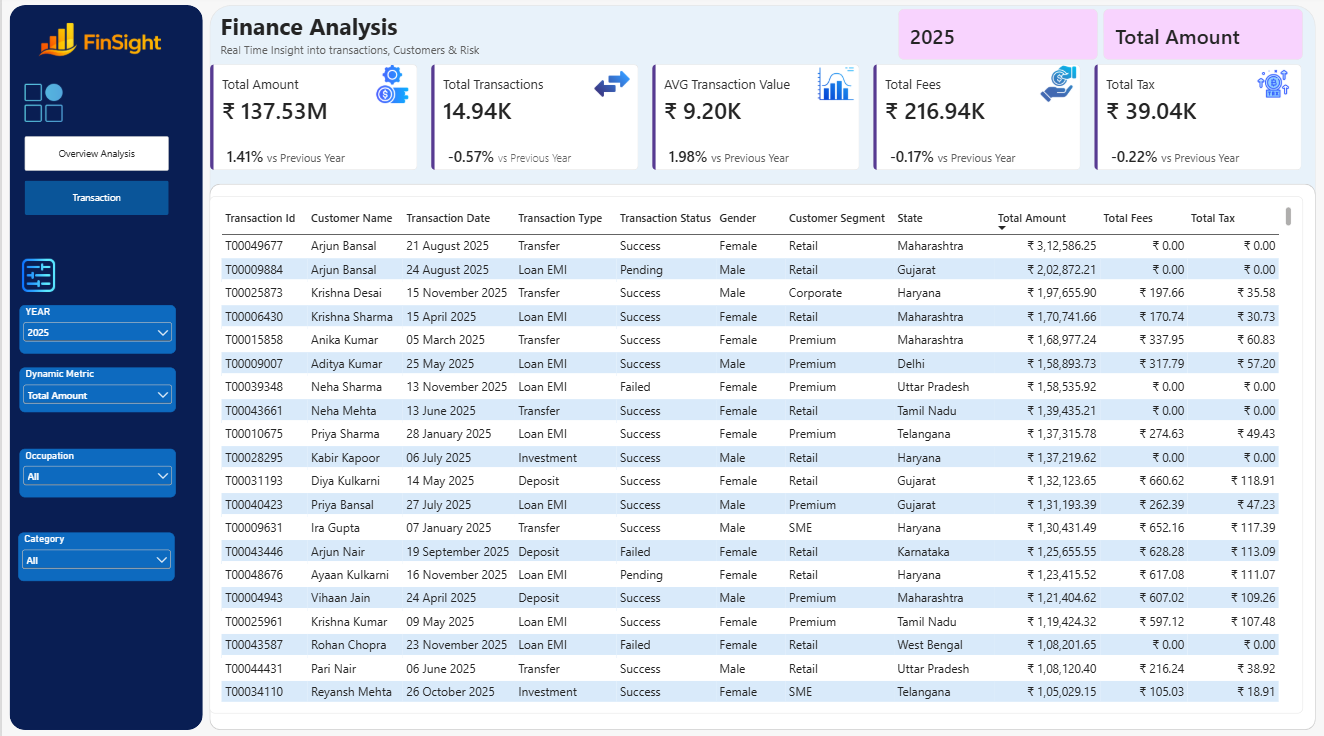

The dashboard page shown, as its layout file describes it:
{"tool":"powerbi","page":{"name":"Transaction","canvas":[1920,1080],"ordinal":1},"visuals":[{"type":"shape","box":[10.3,14.4,279.9,1049.7],"z":0},{"type":"shape","box":[300.5,14.4,1601.4,1049.7],"z":1000},{"type":"image","box":[10.9,29,266,72.4],"z":2000},{"type":"cardVisual","fields":{"Data":["finance_transactions.Dashboard Title"]},"box":[300.4,14.5,414.4,85.1],"z":3000},{"type":"cardVisual","fields":{"Data":["finance_transactions.Total Amount","finance_transactions.Total Transactions","finance_transactions.AVG Transaction Value","finance_transactions.Total Fees","finance_transactions.Total Tax"]},"box":[300.4,99.5,1583.5,155],"z":4000},{"type":"image","box":[537.5,101.3,55,55],"z":5000},{"type":"image","box":[856,101.3,54.3,54.3],"z":6000},{"type":"image","box":[1502,101.3,54.3,54.3],"z":7000},{"type":"image","box":[1179.9,101.3,54.3,54.3],"z":8000},{"type":"image","box":[1813.3,101.3,54.3,54.3],"z":9000},{"type":"shape","box":[300.4,273.3,1601.5,790.8],"z":10000},{"type":"cardVisual","fields":{"Data":["finance_transactions.Selected Year","finance_transactions.Selected Dynamic Measure"]},"box":[1297.5,19.9,586.3,74.2],"z":11000},{"type":"tableEx","fields":{"Values":["finance_transactions.transaction_id","customers.customer_name","finance_transactions.transaction_date","finance_transactions.transaction_type","finance_transactions.transaction_status","customers.gender","customers.customer_segment","customers.state","finance_transactions.Total Amount","finance_transactions.Total Fees","finance_transactions.Total Tax"]},"box":[300.4,291.4,1583.5,749.2],"z":12000},{"type":"slicer","fields":{"Values":["Calender Table.YEAR"]},"box":[25.3,448.8,226.2,70.6],"z":13000},{"type":"slicer","fields":{"Values":["Dynamic Metric.Dynamic Metric"]},"box":[25.3,539.3,226.2,65.1],"z":14000},{"type":"slicer","fields":{"Values":["customers.occupation"]},"box":[25.3,656.9,226.2,70.6],"z":15000},{"type":"slicer","fields":{"Values":["finance_transactions.merchant_category"]},"box":[23.5,778.2,226.2,70.6],"z":16000},{"type":"pageNavigator","box":[32.6,204.5,209.9,115.8],"z":17000},{"type":"image","box":[32.6,128.5,55,55],"z":18000},{"type":"image","box":[25.3,378.2,55,55],"z":19000}]}

Visuals, with their boxes on the page's 1920x1080 design canvas (x1, y1, x2, y2). These are canvas units, not pixel positions in the 1324x736 screenshot, which may show the page scaled, cropped or inside an application window:
shape: (left=10, top=14, right=290, bottom=1064)
shape: (left=300, top=14, right=1902, bottom=1064)
image: (left=11, top=29, right=277, bottom=101)
cardVisual - finance_transactions.Dashboard Title: (left=300, top=14, right=715, bottom=100)
cardVisual - finance_transactions.Total Amount x finance_transactions.Total Transactions: (left=300, top=100, right=1884, bottom=254)
image: (left=538, top=101, right=592, bottom=156)
image: (left=856, top=101, right=910, bottom=156)
image: (left=1502, top=101, right=1556, bottom=156)
image: (left=1180, top=101, right=1234, bottom=156)
image: (left=1813, top=101, right=1868, bottom=156)
shape: (left=300, top=273, right=1902, bottom=1064)
cardVisual - finance_transactions.Selected Year x finance_transactions.Selected Dynamic Measure: (left=1298, top=20, right=1884, bottom=94)
tableEx - finance_transactions.transaction_id x customers.customer_name: (left=300, top=291, right=1884, bottom=1041)
slicer - Calender Table.YEAR: (left=25, top=449, right=252, bottom=519)
slicer - Dynamic Metric.Dynamic Metric: (left=25, top=539, right=252, bottom=604)
slicer - customers.occupation: (left=25, top=657, right=252, bottom=728)
slicer - finance_transactions.merchant_category: (left=24, top=778, right=250, bottom=849)
pageNavigator: (left=33, top=204, right=242, bottom=320)
image: (left=33, top=128, right=88, bottom=184)
image: (left=25, top=378, right=80, bottom=433)
